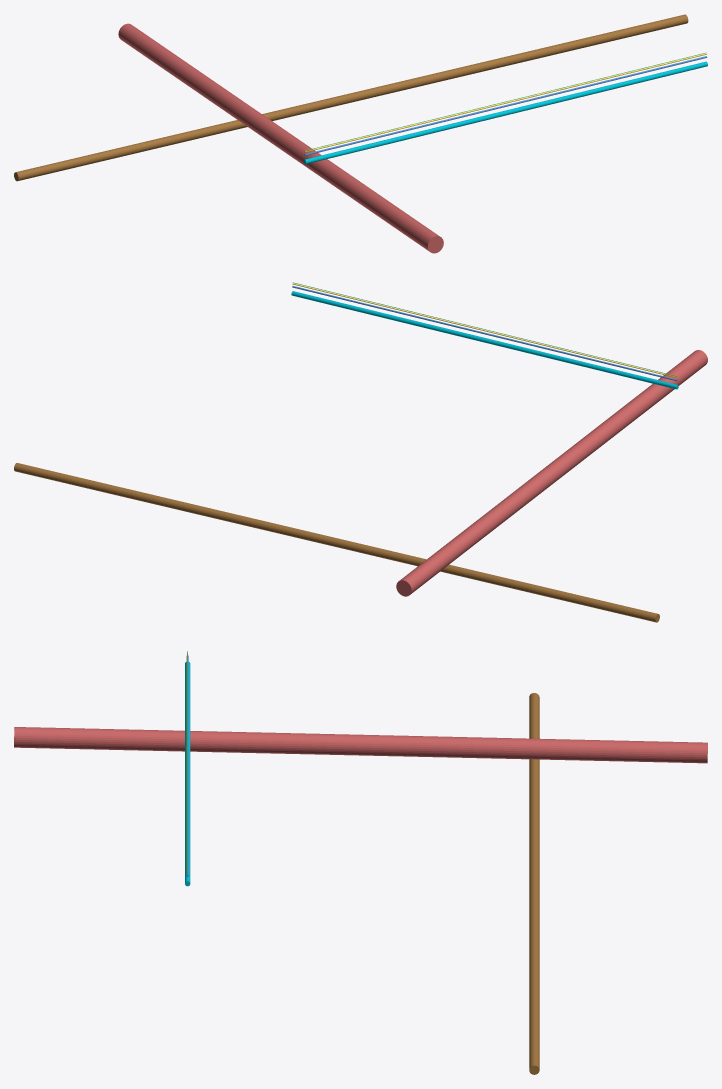
Rendered from sample_uudm_utilities.glb.
3 renders of one model, top to bottom at view 1: azimuth 30°, elevation 25°; view 2: azimuth 150°, elevation 25°; view 3: azimuth 270°, elevation 25°, orthographic. The views are drawn at different scales.
Parts seen in each view (by area): view 1: MRT-NSL-001, DTSS-MB-01, DCS-MB-001, WAT-POT-01, PWR-22KV-01, TEL-FIBER-01; view 2: MRT-NSL-001, DTSS-MB-01, DCS-MB-001, WAT-POT-01, PWR-22KV-01; view 3: MRT-NSL-001, DTSS-MB-01, DCS-MB-001.
Part boxes in pixels (<box>): MRT-NSL-001: <box>118,23,443,253</box>; DTSS-MB-01: <box>14,14,688,181</box>; DCS-MB-001: <box>303,61,707,164</box>; WAT-POT-01: <box>304,56,707,155</box>; PWR-22KV-01: <box>304,53,706,152</box>; TEL-FIBER-01: <box>305,52,706,150</box>; MRT-NSL-001: <box>396,350,707,596</box>; DTSS-MB-01: <box>14,463,659,622</box>; DCS-MB-001: <box>291,291,678,389</box>; WAT-POT-01: <box>292,286,677,381</box>; PWR-22KV-01: <box>292,283,677,378</box>; MRT-NSL-001: <box>14,727,707,763</box>; DTSS-MB-01: <box>529,693,539,1074</box>; DCS-MB-001: <box>185,662,190,886</box>.
Bounding box in the file's own units: 250 × 41.6 × 200.
